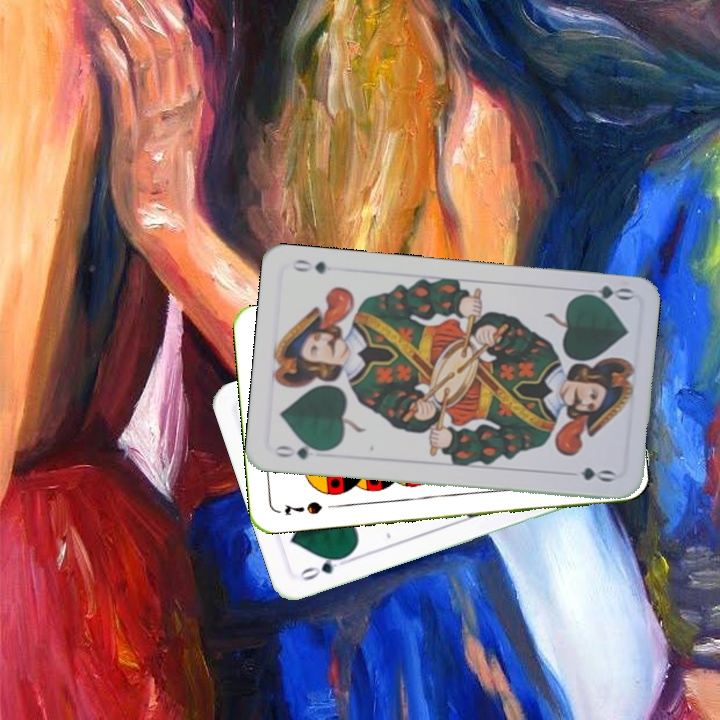GO: (295, 551, 351, 584), (575, 281, 635, 307), (271, 439, 329, 462)
S7: (280, 498, 325, 518)
